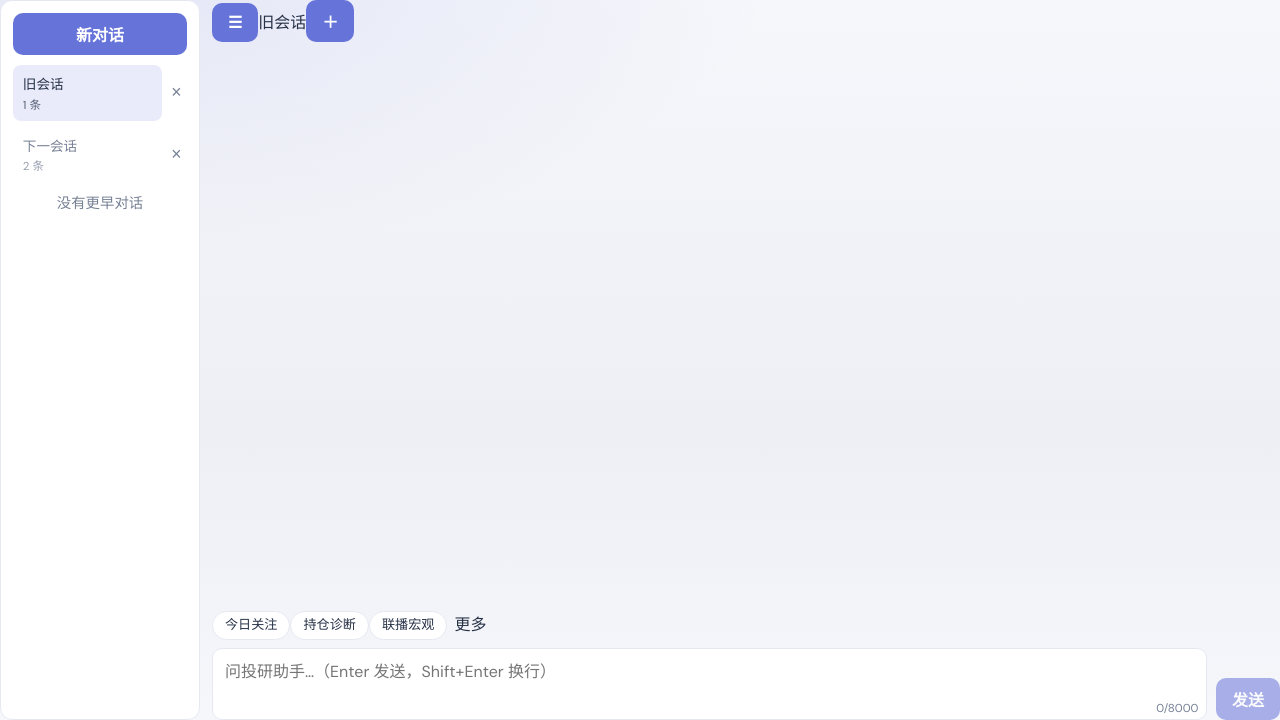
Test: 移动顶栏打开对话记录并在成功选择会话后关闭抽屉
Click the button named "打开对话记录" at (235, 22), box [212,3,258,42]
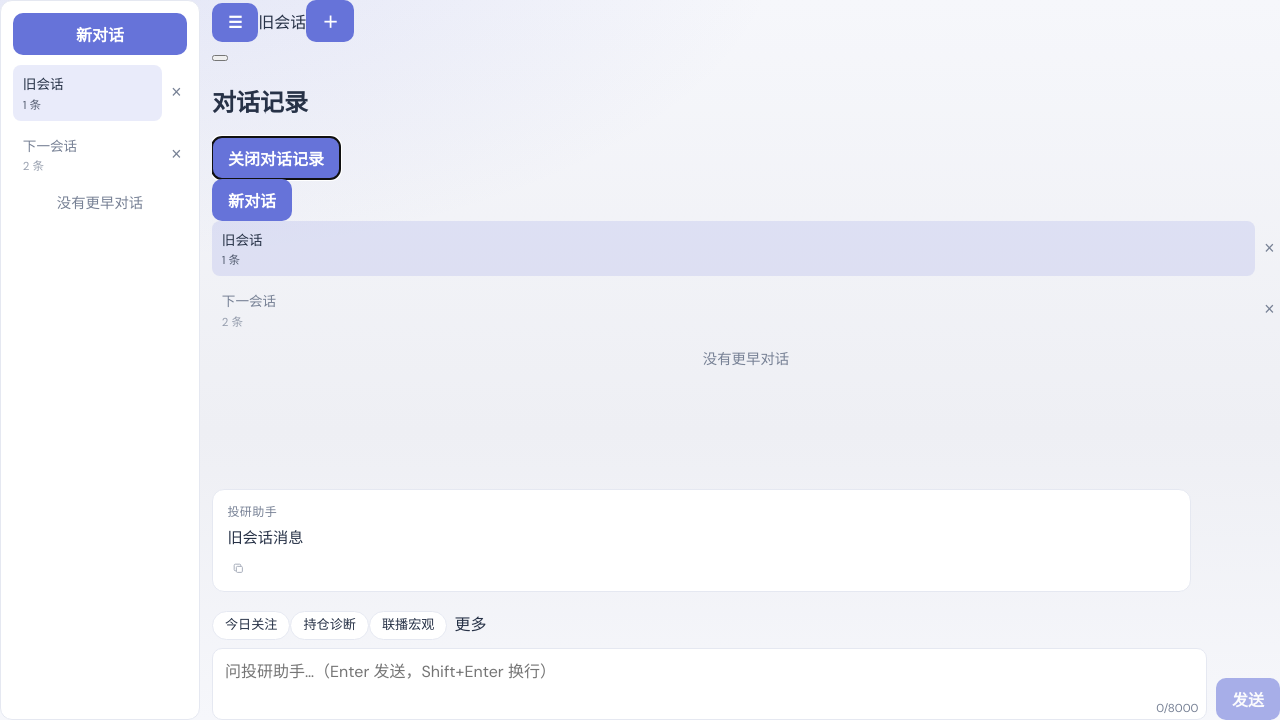
Click the button with aria-label "打开 下一会话" at (249, 302), box [212,282,1254,338]
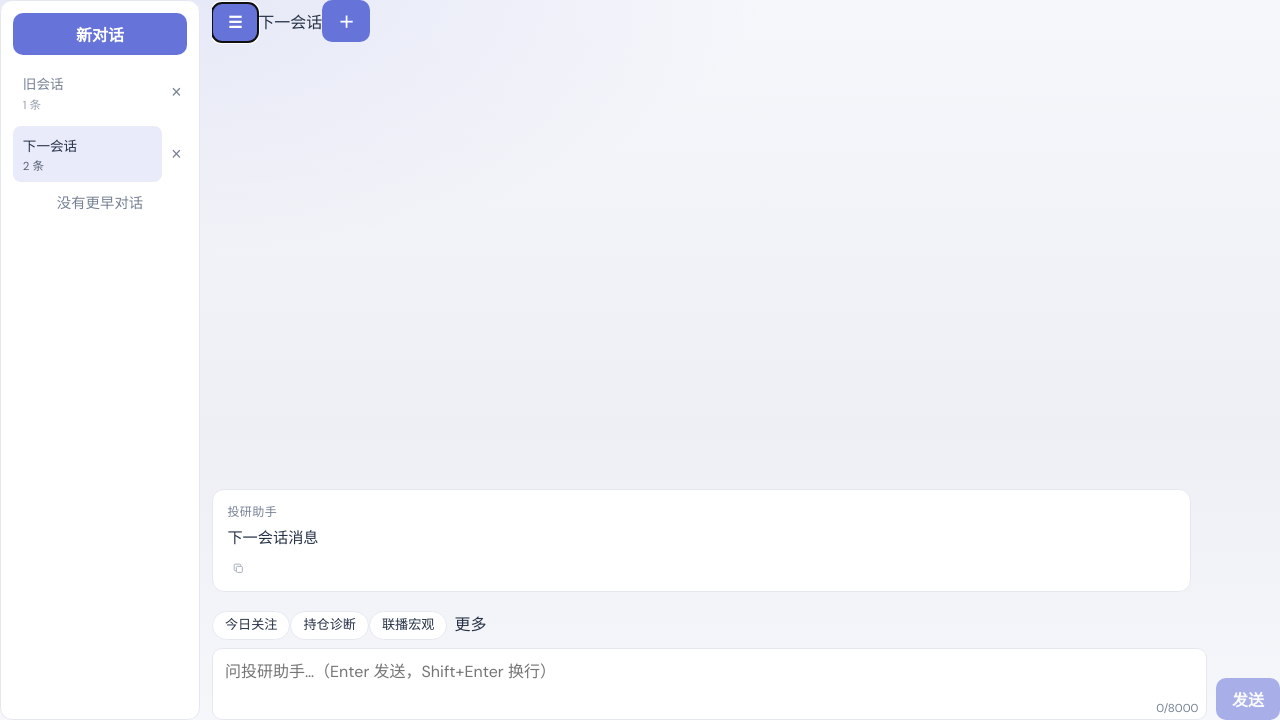
Expected: the text "下一会话消息" is shown, [227,528,318,548]
Expected: the heading "对话记录" is gone
